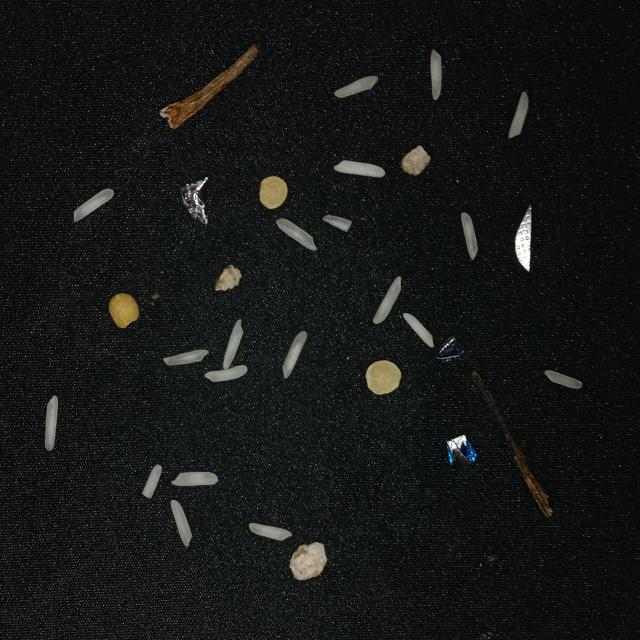Broken: (142, 464, 162, 498), (323, 214, 353, 232)
Full: (472, 371, 554, 518), (372, 275, 402, 324), (74, 188, 114, 224), (276, 218, 317, 251), (282, 331, 308, 379), (403, 313, 434, 349), (507, 91, 530, 138), (170, 500, 192, 548), (223, 320, 243, 370), (334, 76, 378, 98), (334, 160, 385, 178), (460, 213, 478, 260), (249, 523, 292, 541), (544, 369, 582, 389), (44, 396, 58, 450), (163, 349, 210, 365), (204, 365, 248, 382), (171, 472, 218, 486), (431, 50, 442, 100)
